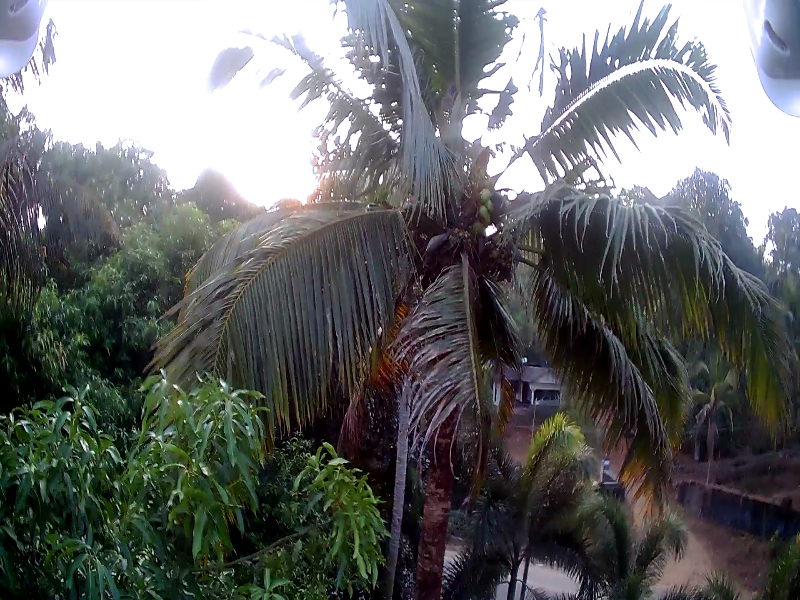coconut: (484, 198, 494, 214), (472, 220, 483, 232), (475, 205, 484, 219), (479, 189, 488, 194)
